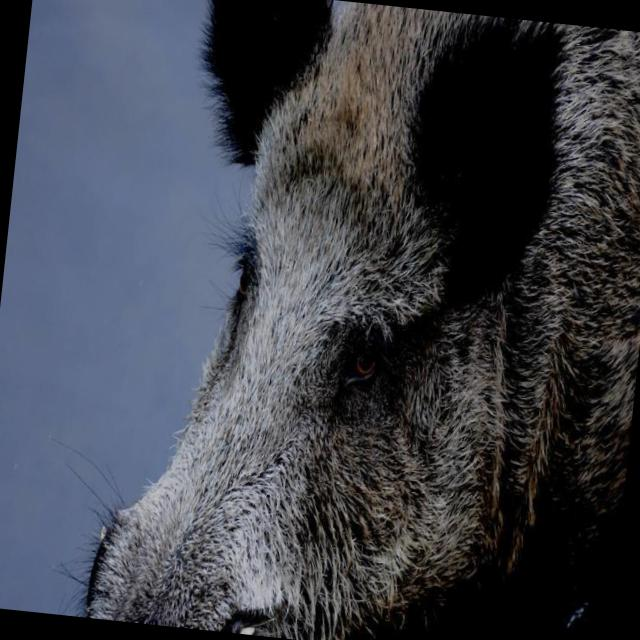pig: (86, 0, 640, 640)
